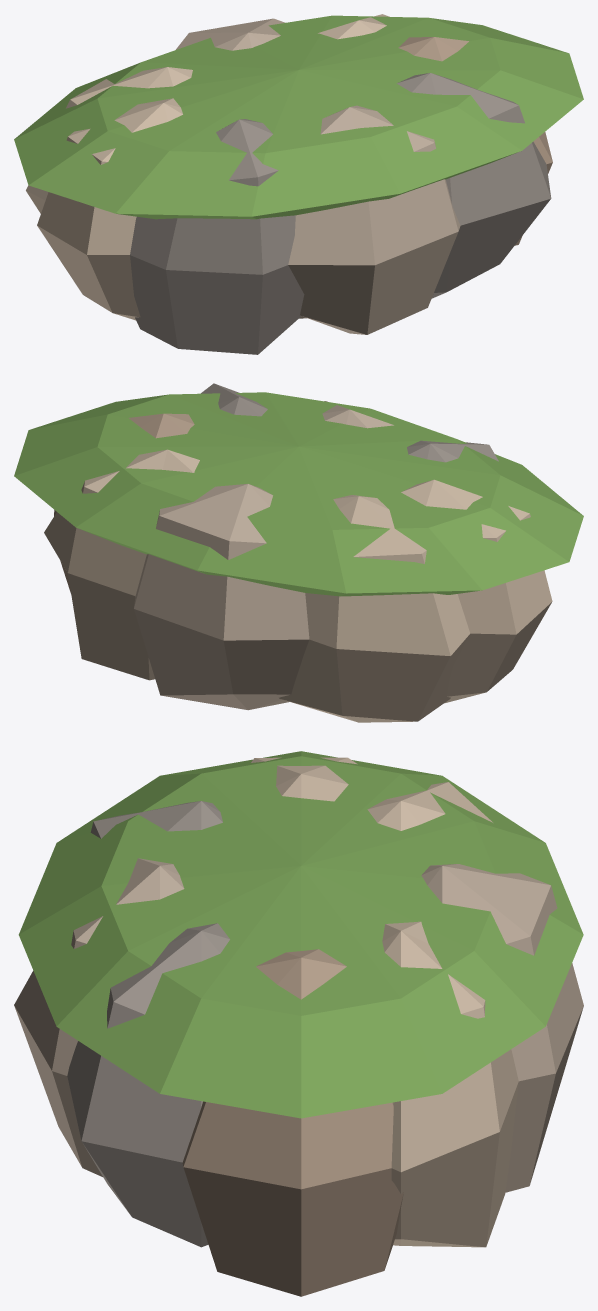
Rendered from distant_island.glb.
3 renders of one model, top to bottom at view 1: azimuth 30°, elevation 25°; view 2: azimuth 150°, elevation 25°; view 3: azimuth 270°, elevation 25°, orthographic. The views are drawn at different scales.
Visible parts, largest first — view 1: distant_island; view 2: distant_island; view 3: distant_island.
Boxes of the visible parts, <box> form: distant_island: <box>14,14,583,354</box>; distant_island: <box>14,383,583,722</box>; distant_island: <box>14,751,583,1296</box>.
Bounding box in the file's own units: 8 × 3.3 × 5.25.
